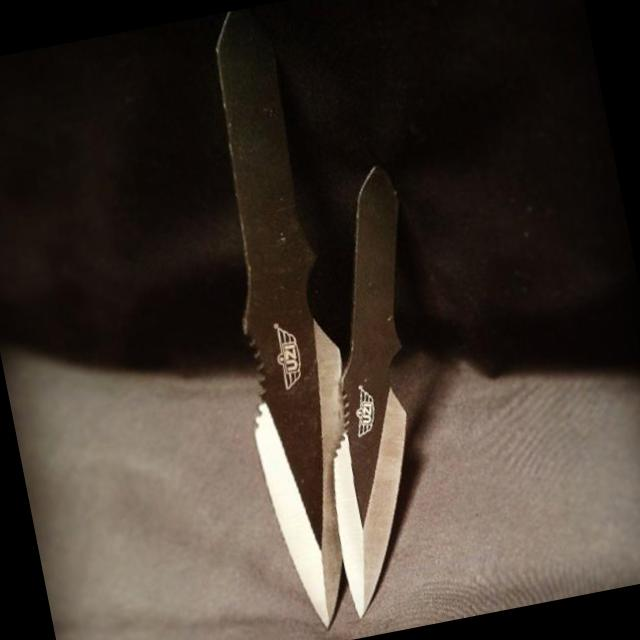Knife: (216, 8, 407, 626)
